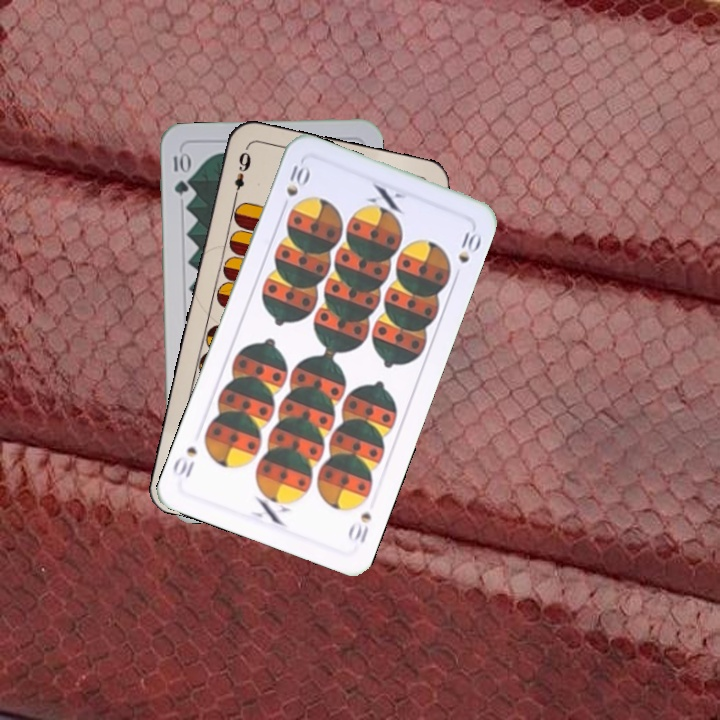E9: (229, 148, 254, 204)
G10: (169, 148, 191, 197)
S10: (282, 157, 312, 200), (344, 508, 374, 547)
